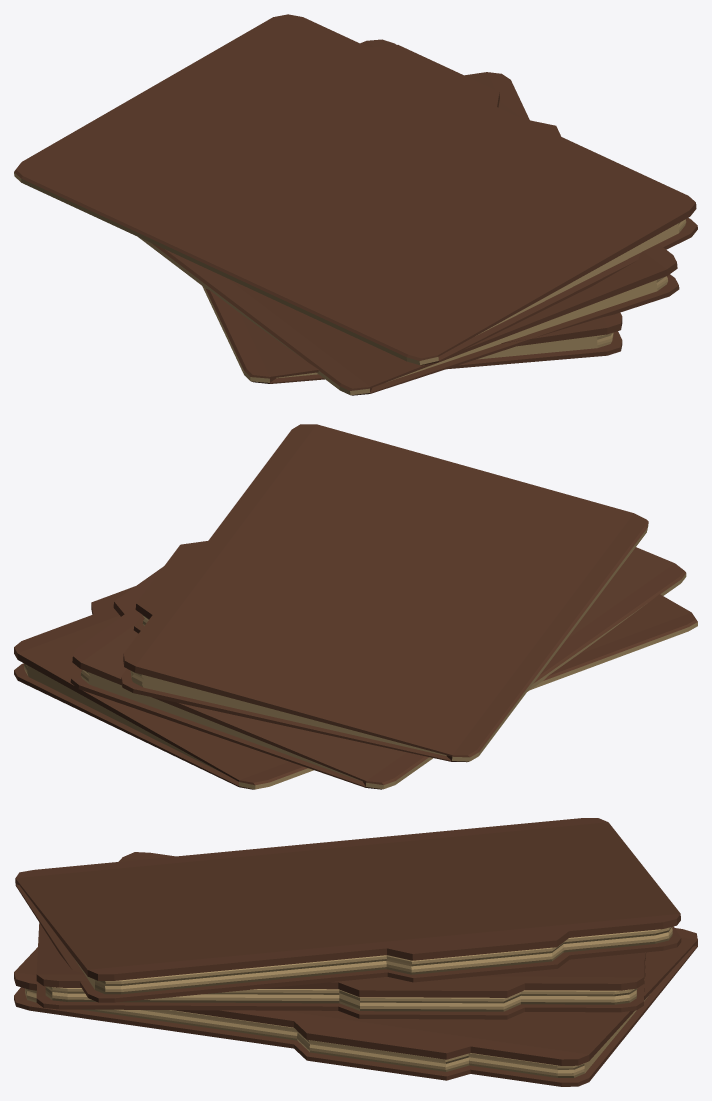
File: Papka blend.fbx
3 views of the same model, one above another, from view 1: azimuth 30°, elevation 25°; view 2: azimuth 150°, elevation 25°; view 3: azimuth 270°, elevation 25° (orthographic). The views are drawn at different scales.
Parts seen in each view (by area): view 1: papka; view 2: papka; view 3: papka.
Part boxes in pixels (left/top/right/bottom): papka: left=14, top=14, right=697, bottom=395; papka: left=14, top=424, right=697, bottom=789; papka: left=14, top=818, right=697, bottom=1086.
Size of the model in its own units: 11.38 by 2.1 by 14.29.
